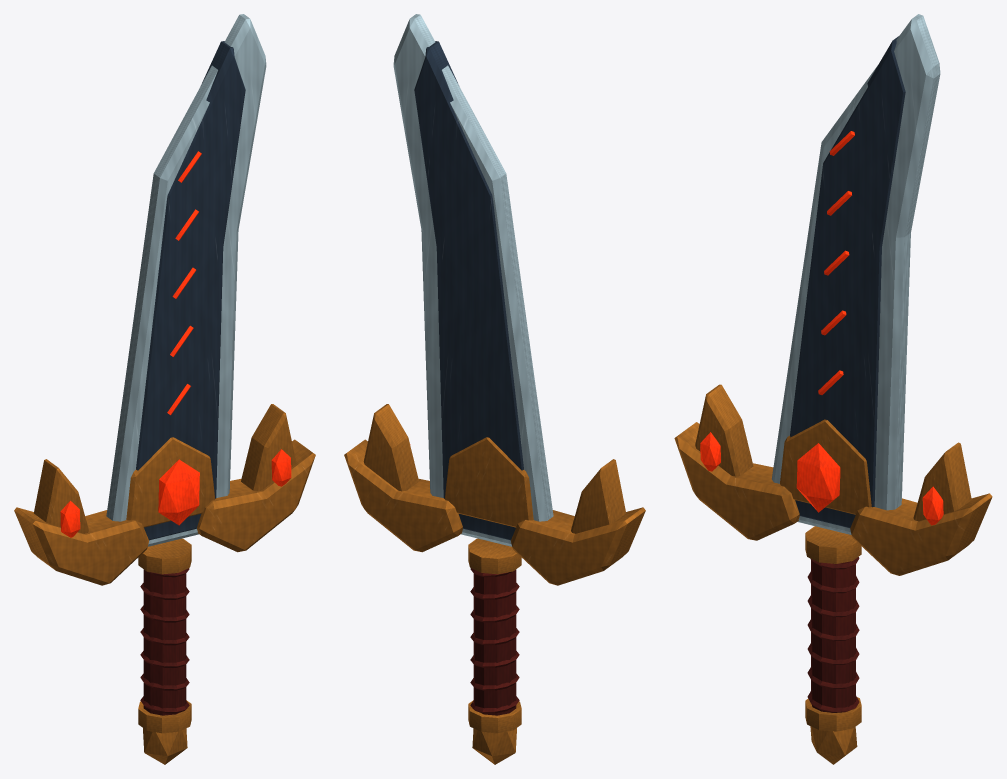
Rendered from sword-t4.glb.
3 views of the same model, side by side, from view 1: azimuth 30°, elevation 25°; view 2: azimuth 150°, elevation 25°; view 3: azimuth 330°, elevation 25° (orthographic). The views are drawn at different scales.
Parts seen in each view (by area): view 1: Sculpted blade core, Cutting edge, Forged guard, Forged guard.001, Leather grip, Blade collar, Guard fluke.001, Set jewel, Guard fluke, Grip ferrule.001, Faceted pommel, Grip ferrule (+2 smaller); view 2: Sculpted blade core, Cutting edge, Forged guard, Forged guard.001, Blade collar, Leather grip, Guard fluke.001, Guard fluke, Grip ferrule.001, Faceted pommel, Grip ferrule; view 3: Sculpted blade core, Cutting edge, Forged guard.001, Forged guard, Leather grip, Blade collar, Guard fluke, Guard fluke.001, Set jewel, Grip ferrule.001, Faceted pommel, Grip ferrule (+2 smaller).
Boxes of the visible parts, <box> form: Sculpted blade core: <box>136,41,245,540</box>; Cutting edge: <box>106,14,266,546</box>; Forged guard: <box>14,507,148,585</box>; Forged guard.001: <box>197,439,315,552</box>; Leather grip: <box>143,569,186,715</box>; Blade collar: <box>126,437,215,527</box>; Guard fluke.001: <box>241,404,296,491</box>; Set jewel: <box>158,459,199,525</box>; Guard fluke: <box>34,459,88,533</box>; Grip ferrule.001: <box>138,538,191,574</box>; Faceted pommel: <box>143,728,187,764</box>; Grip ferrule: <box>138,700,191,733</box>; Sculpted blade core: <box>414,41,523,540</box>; Cutting edge: <box>393,14,553,546</box>; Forged guard: <box>511,507,645,585</box>; Forged guard.001: <box>344,439,462,552</box>; Blade collar: <box>444,437,533,527</box>; Leather grip: <box>473,569,516,715</box>; Guard fluke.001: <box>363,404,418,491</box>; Guard fluke: <box>571,459,625,533</box>; Grip ferrule.001: <box>468,538,521,574</box>; Faceted pommel: <box>472,728,516,764</box>; Grip ferrule: <box>468,700,521,733</box>; Sculpted blade core: <box>790,36,905,527</box>; Cutting edge: <box>771,14,940,534</box>; Forged guard.001: <box>850,493,992,575</box>; Forged guard: <box>674,422,799,540</box>; Leather grip: <box>811,560,855,712</box>; Blade collar: <box>780,419,871,514</box>; Guard fluke: <box>695,384,753,476</box>; Guard fluke.001: <box>913,442,971,521</box>; Set jewel: <box>796,443,840,512</box>; Grip ferrule.001: <box>805,526,861,563</box>; Faceted pommel: <box>810,726,857,764</box>; Grip ferrule: <box>805,697,861,731</box>.
Size of the model in its own units: 0.4677 by 1.15 by 0.0945.
1 material, 1 textured.
